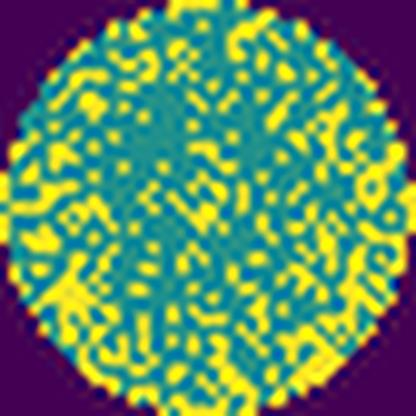Edge-Loc: (259, 310, 345, 416), (19, 249, 104, 348)
